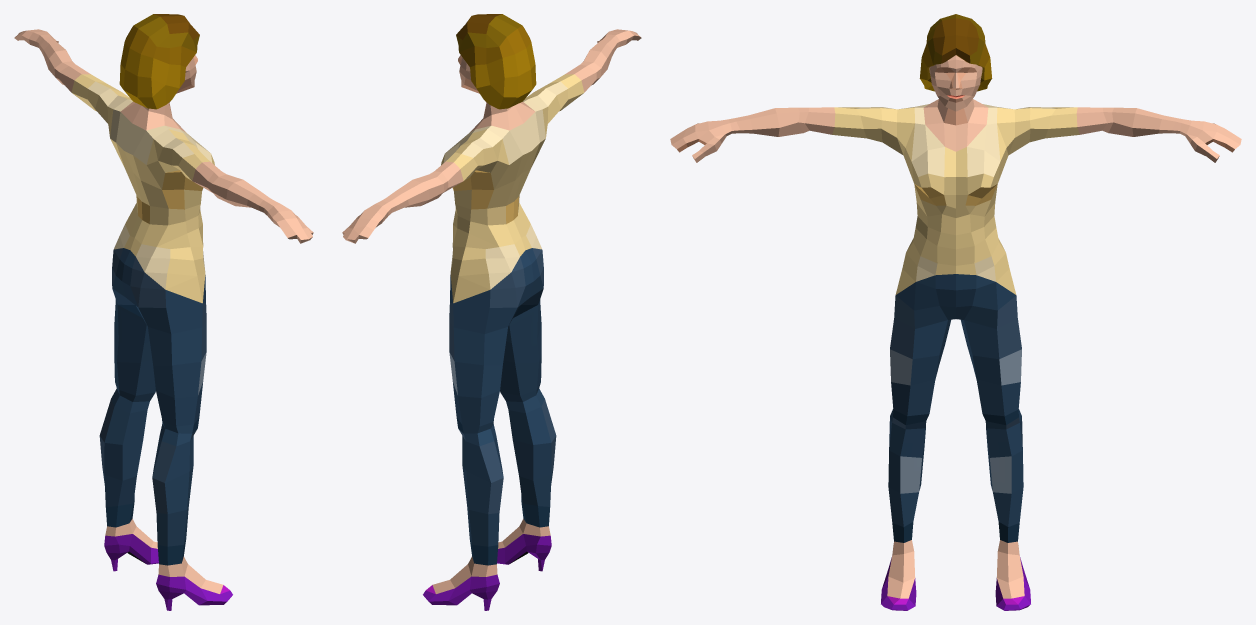
The model's file is female_draco.glb.
The picture shows the model from 3 angles, left to right: view 1: azimuth 30°, elevation 25°; view 2: azimuth 150°, elevation 25°; view 3: azimuth 270°, elevation 25°; orthographic projection.
Visible parts, largest first — view 1: lpFemale_casual_G; view 2: lpFemale_casual_G; view 3: lpFemale_casual_G.
Part boxes in pixels (bbox=[...]): lpFemale_casual_G: bbox=[14, 14, 313, 610]; lpFemale_casual_G: bbox=[342, 14, 641, 610]; lpFemale_casual_G: bbox=[670, 14, 1241, 610].
Size of the model in its own units: 25.34 by 172 by 155.
Materials: 1 (1 with a texture image).
